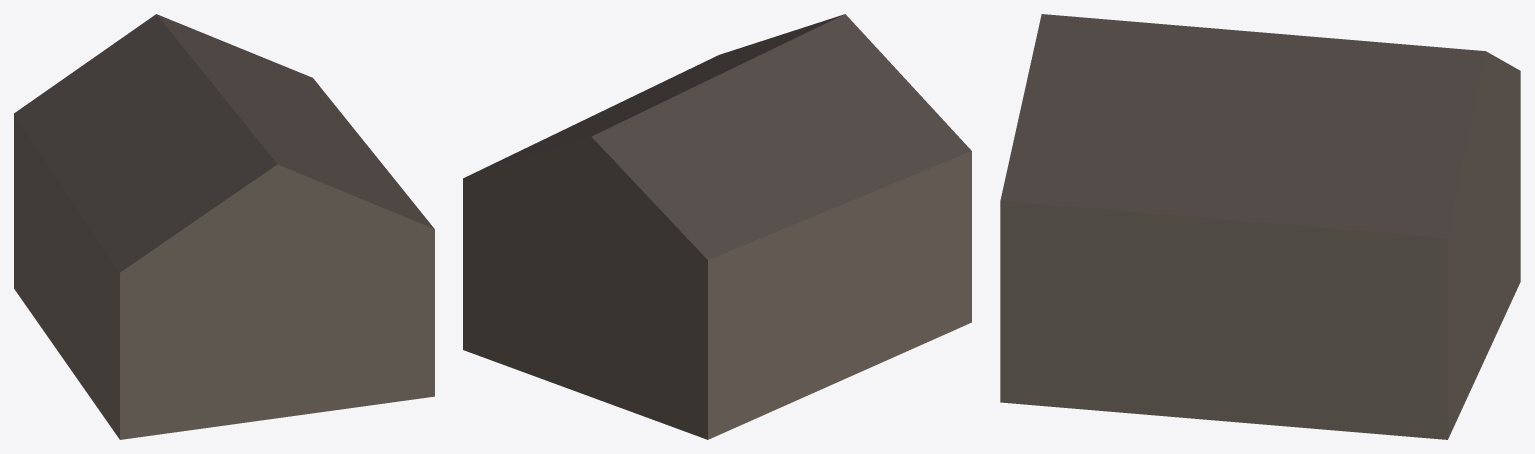
3 renders of one model, left to right at view 1: azimuth 30°, elevation 25°; view 2: azimuth 150°, elevation 25°; view 3: azimuth 270°, elevation 25°, orthographic. The views are drawn at different scales.
Parts seen in each view (by area): view 1: HP-w859082548; view 2: HP-w859082548; view 3: HP-w859082548.
Part boxes in pixels (<box>): HP-w859082548: <box>14,14,434,439</box>; HP-w859082548: <box>463,14,971,439</box>; HP-w859082548: <box>1000,14,1520,439</box>.
Bounding box in the file's own units: 12.93 × 9.11 × 14.04.
